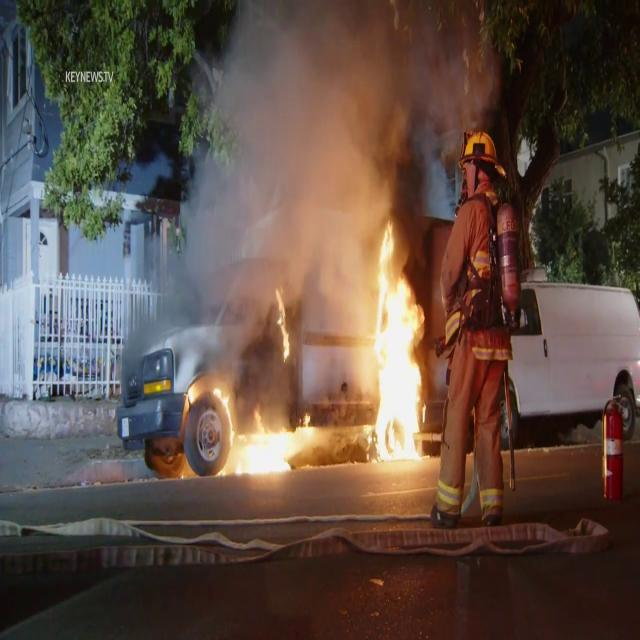Fire: (361, 224, 434, 466), (182, 376, 314, 481), (221, 404, 314, 482)
Smoke: (132, 0, 496, 359)
